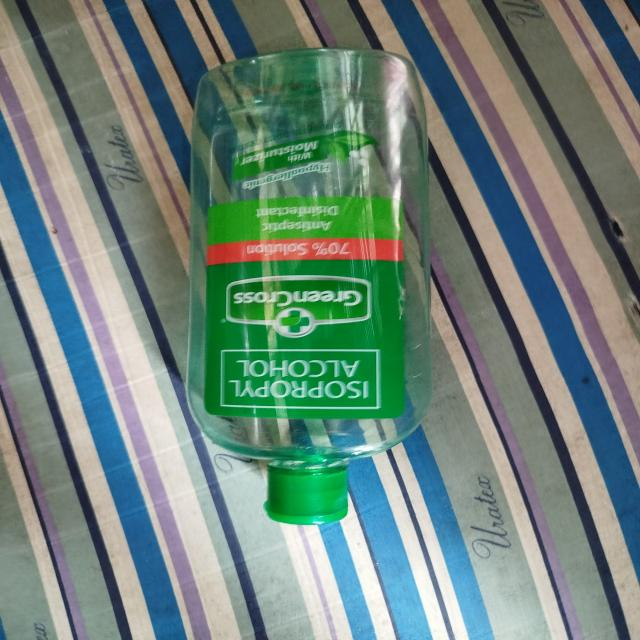plastic: (166, 37, 462, 544)
